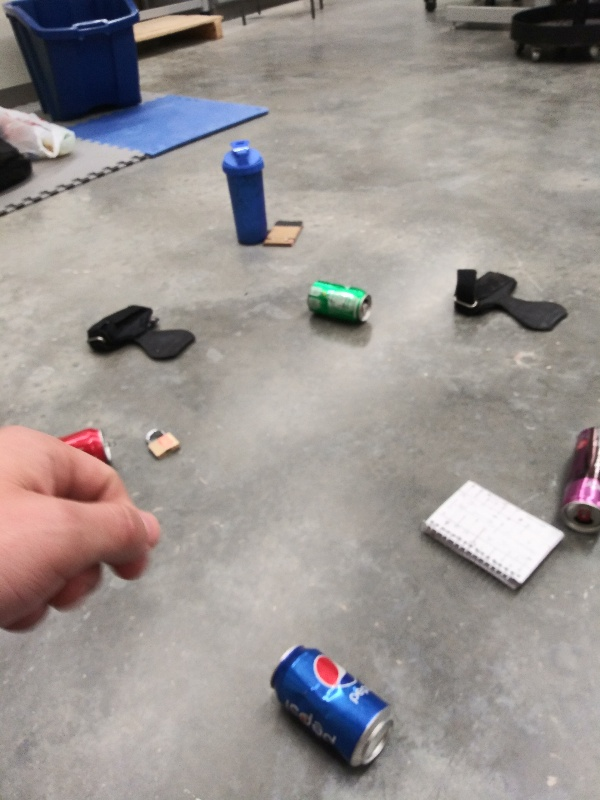can: (266, 640, 399, 775), (555, 421, 600, 542), (302, 275, 381, 334), (58, 422, 117, 468)
